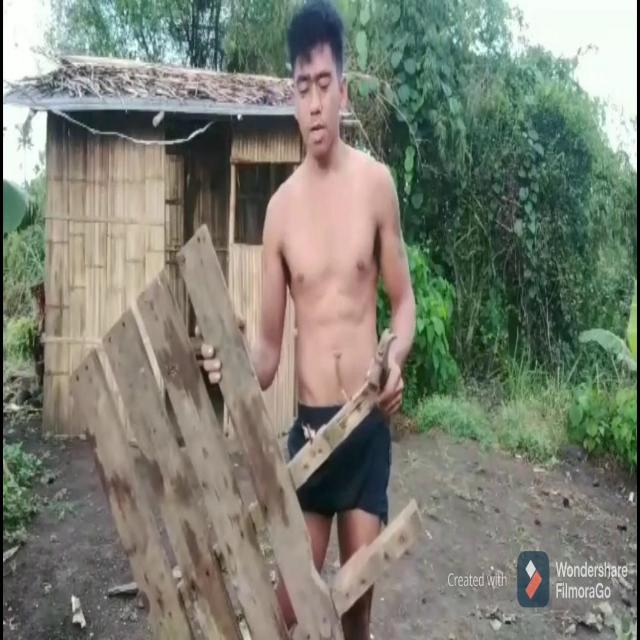hammer: (369, 324, 399, 396)
